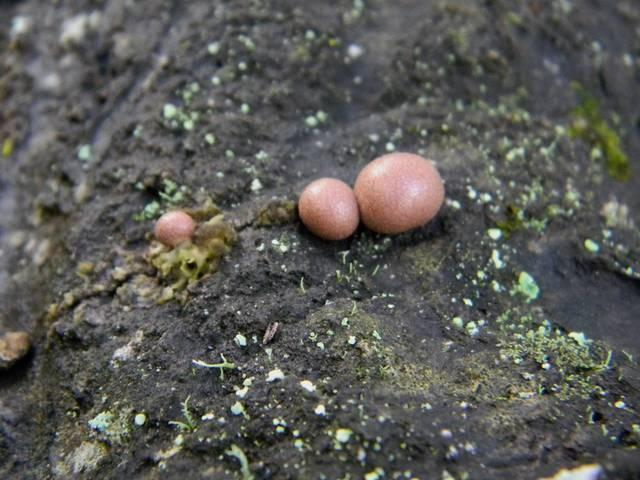Non-edible Mushroom: (353, 150, 445, 235), (296, 176, 359, 241), (153, 209, 196, 247)
